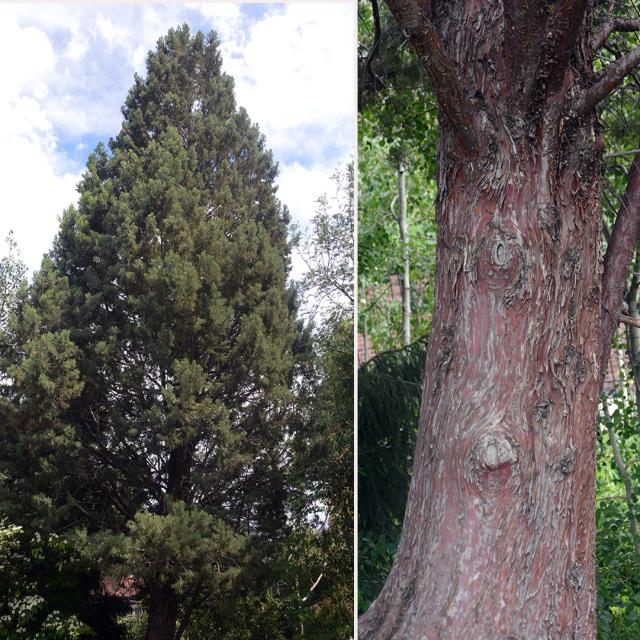Hesperocyparis bakeri: (11, 22, 305, 640), (388, 2, 636, 640)
